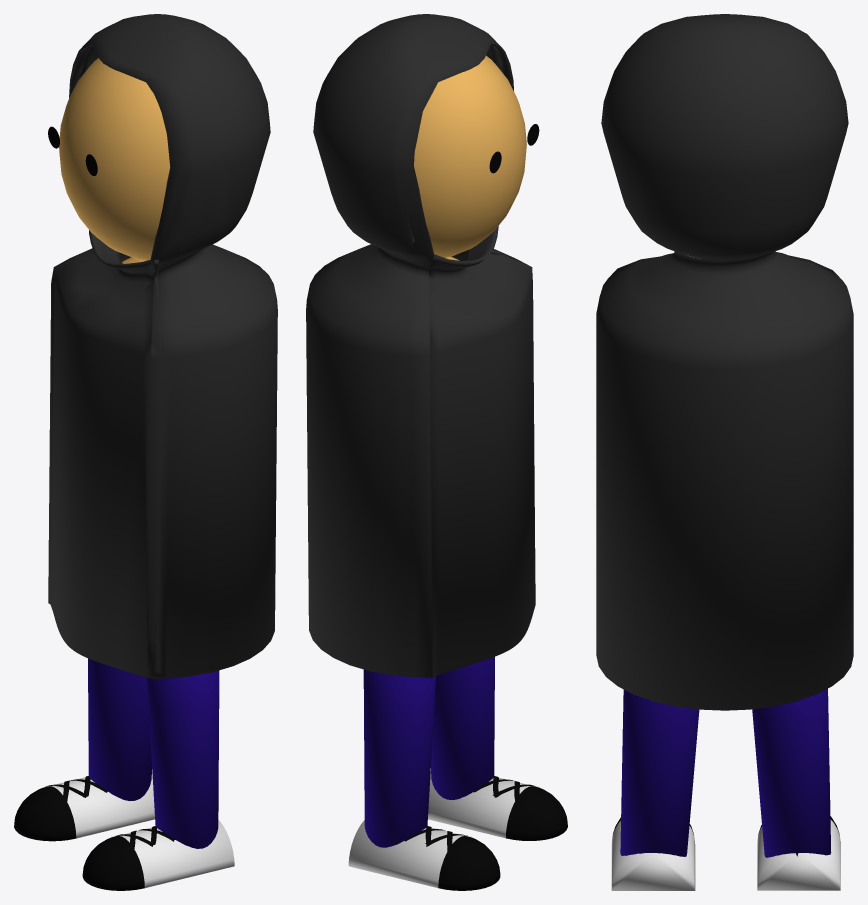
The model's file is BillGatos.fbx.
3 views of the same model, side by side, from view 1: azimuth 30°, elevation 25°; view 2: azimuth 150°, elevation 25°; view 3: azimuth 270°, elevation 25° (orthographic). The views are drawn at different scales.
Visible parts, largest first — view 1: Sudadera, Cara, Pierna 02, Pierna 01, Pie 02, Pie 01; view 2: Sudadera, Cara, Pierna 01, Pierna 02, Pie 01, Pie 02; view 3: Sudadera, Pierna 01, Pierna 02, Pie 02, Pie 01.
Part boxes in pixels (x1,y1,x2,y2): Sudadera: [48, 14, 277, 678]; Cara: [59, 58, 170, 260]; Pierna 02: [147, 670, 219, 848]; Pierna 01: [88, 658, 152, 800]; Pie 02: [82, 820, 234, 890]; Pie 01: [14, 773, 154, 841]; Sudadera: [306, 14, 535, 678]; Cara: [414, 55, 526, 257]; Pierna 01: [363, 669, 435, 847]; Pierna 02: [431, 657, 494, 799]; Pie 01: [348, 820, 500, 890]; Pie 02: [428, 771, 567, 840]; Sudadera: [596, 14, 853, 710]; Pierna 01: [752, 689, 831, 857]; Pierna 02: [620, 690, 699, 856]; Pie 02: [611, 817, 695, 890]; Pie 01: [757, 816, 840, 890].
Size of the model in its own units: 39.2 by 145 by 39.12.
